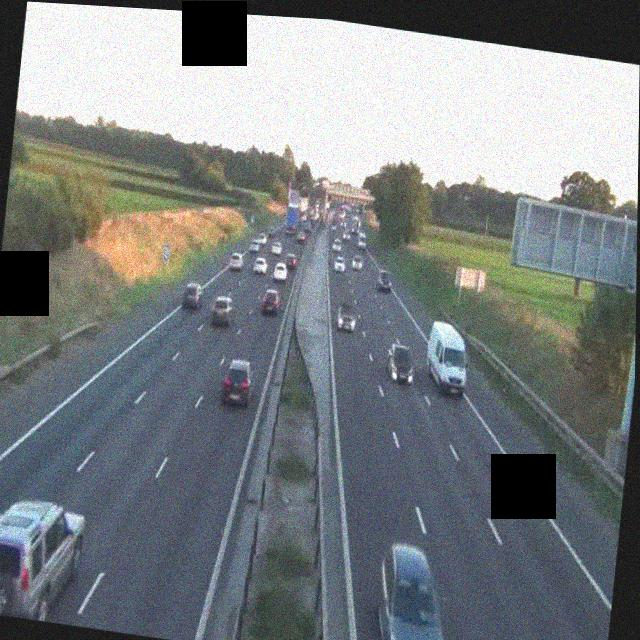car: (0, 491, 88, 626), (371, 539, 454, 640), (220, 358, 255, 408), (383, 341, 415, 385), (209, 293, 235, 327), (335, 297, 358, 332), (181, 279, 204, 311), (260, 286, 280, 314), (376, 268, 392, 292), (251, 256, 268, 278), (228, 250, 244, 271), (282, 250, 298, 271), (249, 237, 262, 255), (334, 254, 346, 273), (270, 238, 281, 254), (350, 254, 361, 270), (295, 228, 305, 244), (359, 242, 369, 257), (332, 238, 342, 252)
truck: (422, 318, 471, 395), (284, 200, 299, 230)
